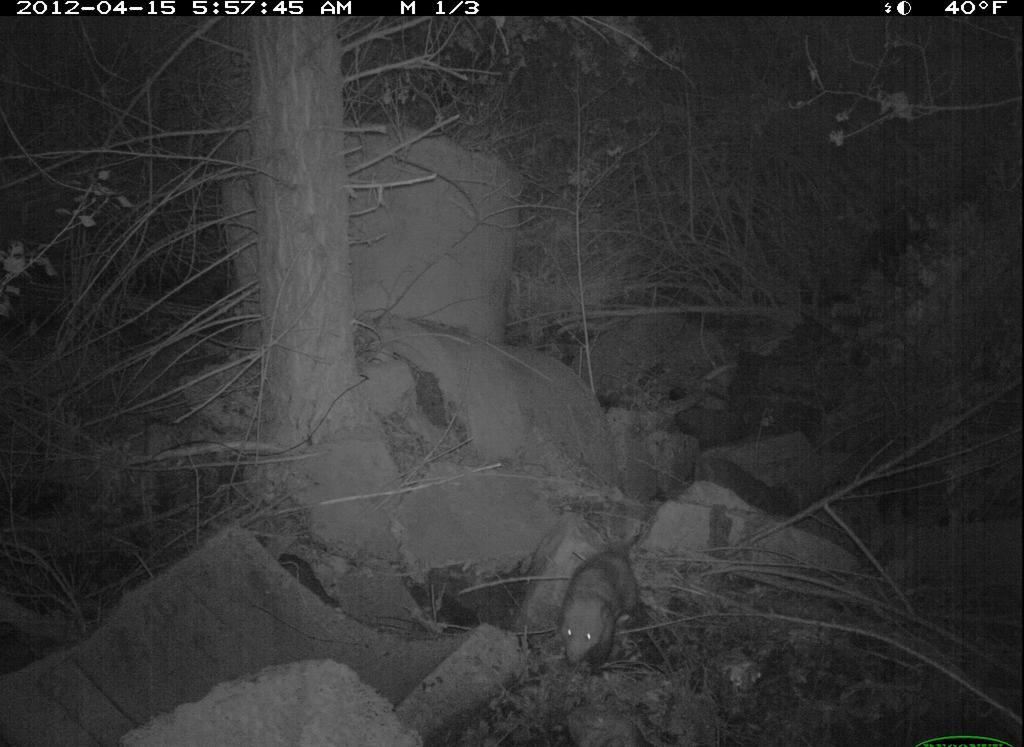opossum: (556, 530, 649, 675)
